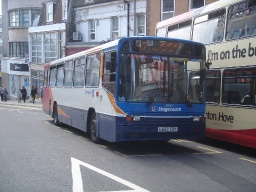bus: (39, 35, 209, 144)
